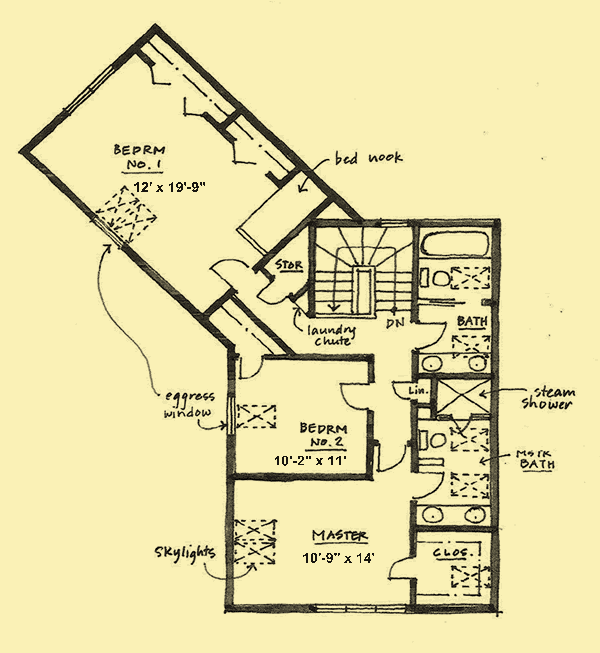door: (207, 257, 256, 286), (415, 319, 449, 351), (376, 440, 405, 476), (339, 378, 369, 411), (414, 468, 447, 498), (235, 355, 265, 384), (387, 556, 416, 581)
stairs: (314, 223, 409, 324)
tub: (415, 229, 500, 260)
windows: (310, 601, 409, 618)
